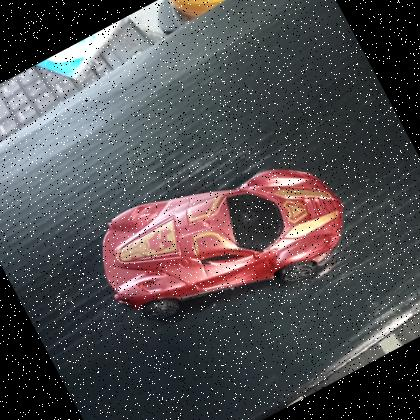Car: (73, 111, 371, 370)
